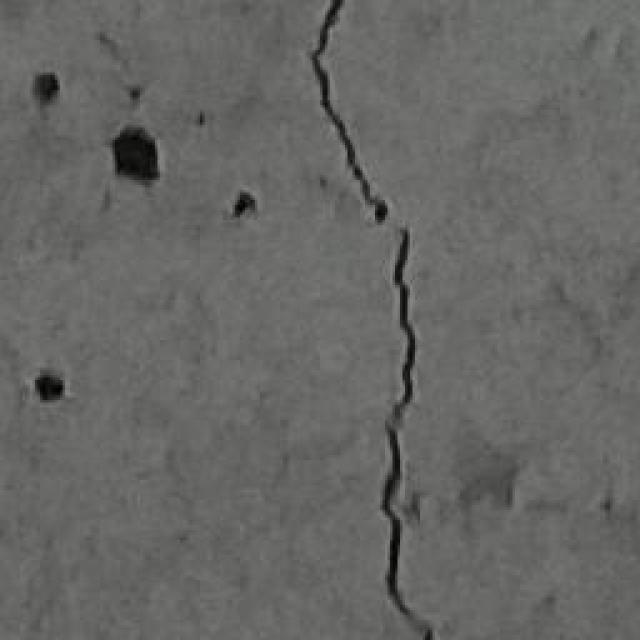Longitudinal: (294, 0, 457, 640)
